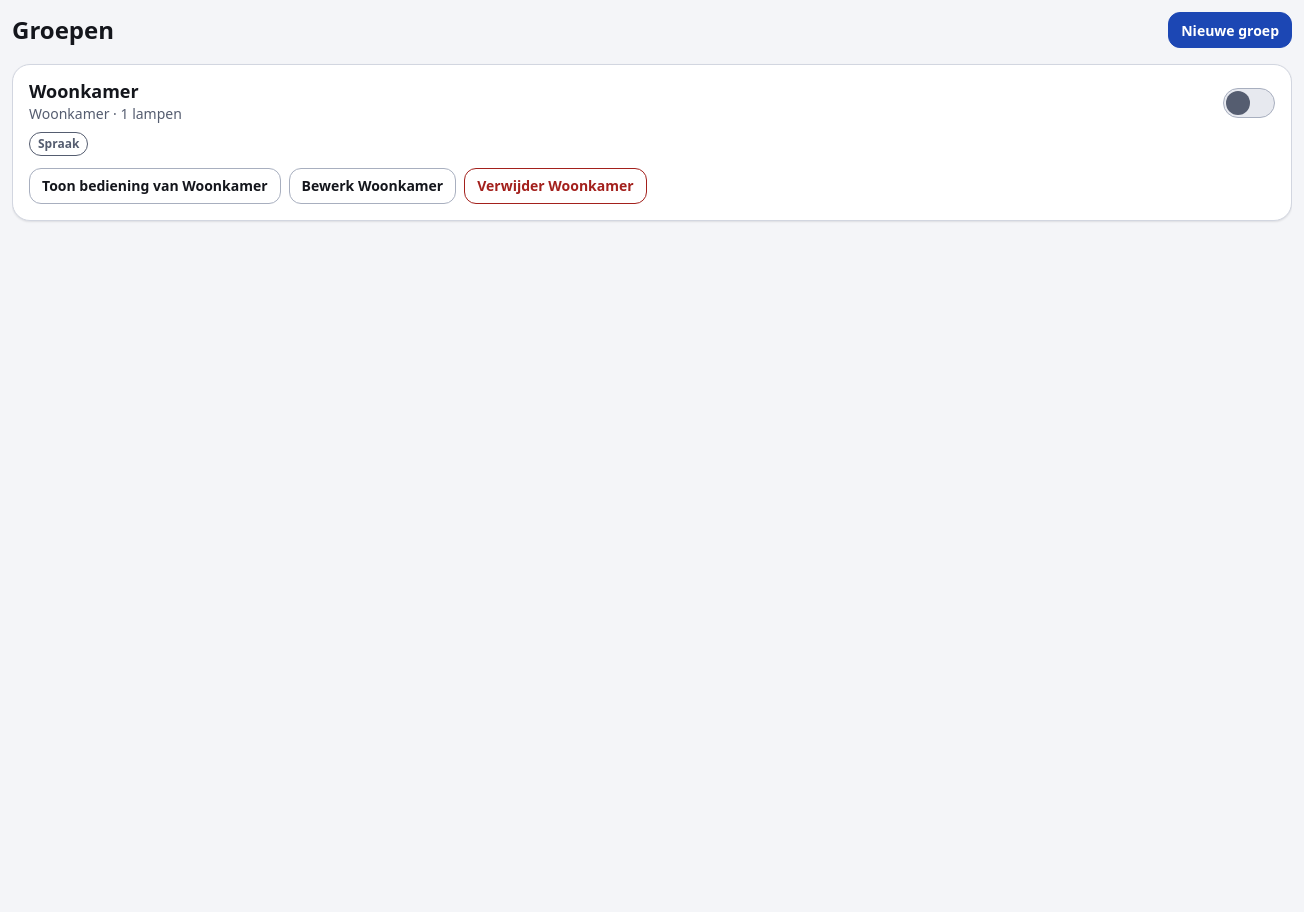
Test: GroupsPage › shows per-light failures returned by a group command
The image size is (1304, 912).
Click the switch named "Woonkamer aan of uit".
click(1249, 103)  # box [1223,81,1275,125]
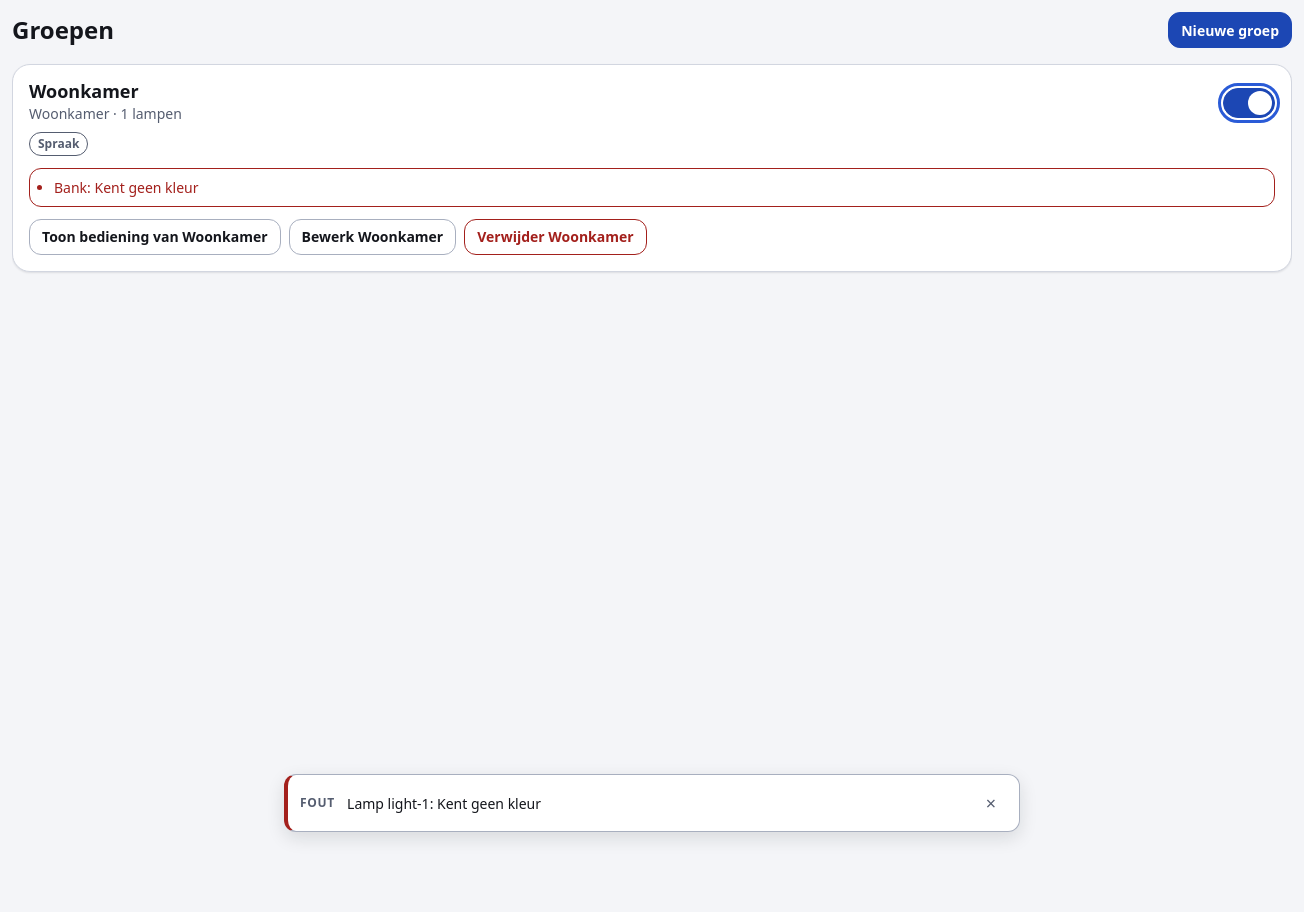
Expected: the list item "Bank: Kent geen kleur" is shown, [54,178,198,197]
